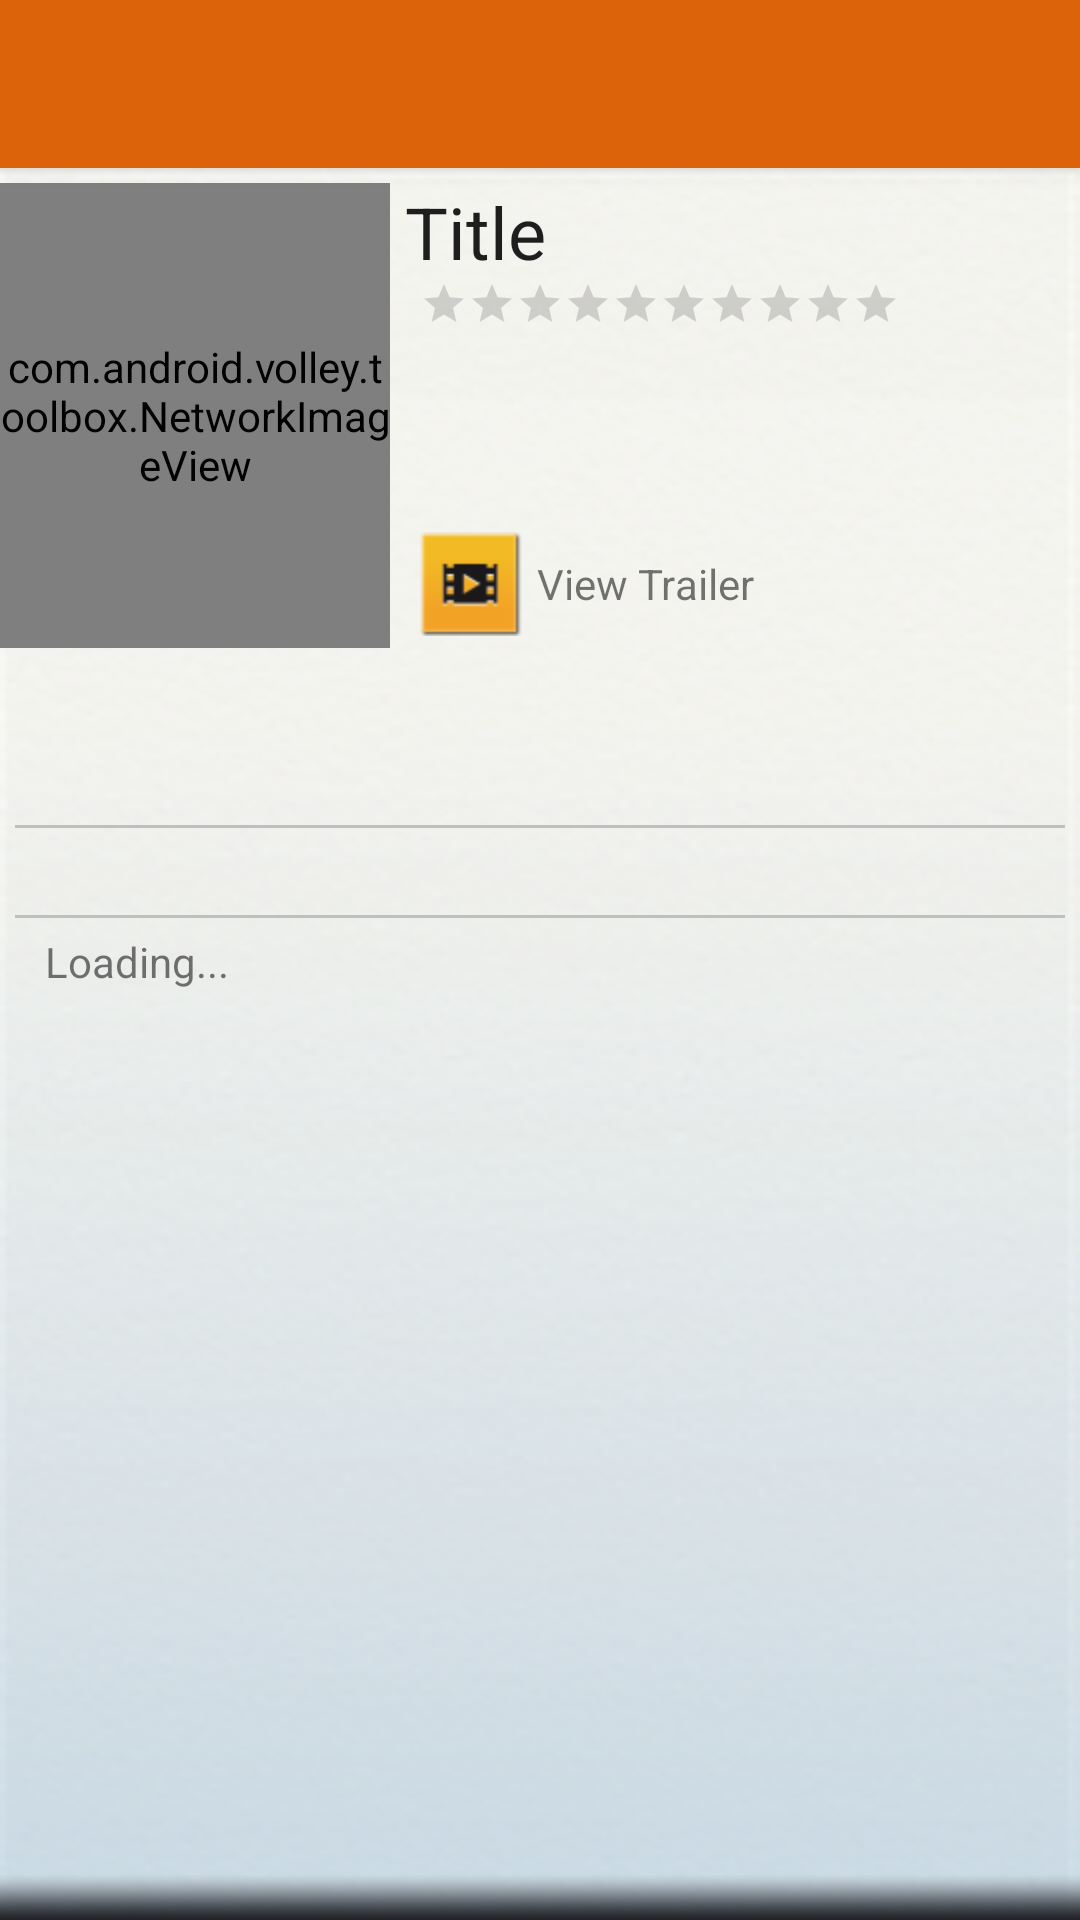

Named icons in this screenshot (1080px×1920px) and their centers, point (x, y):
movie trailer: point (470, 584)
